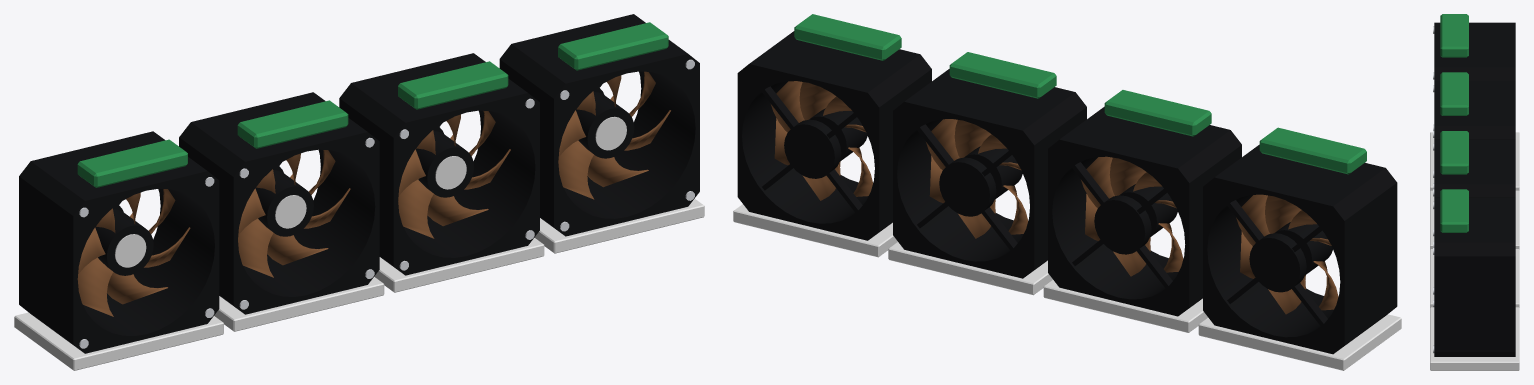
The model's file is hw_cool_hotswap_fans.glb.
The picture shows the model from 3 angles, left to right: view 1: azimuth 30°, elevation 25°; view 2: azimuth 150°, elevation 25°; view 3: azimuth 270°, elevation 25°; orthographic projection. The views are drawn at different scales.
Visible parts, largest first — view 1: Body, Rotor_Z_0, Rotor_Z_1, Rotor_Z_3, Rotor_Z_2; view 2: Body, Rotor_Z_3, Rotor_Z_1, Rotor_Z_2, Rotor_Z_0; view 3: Body.
Part boxes in pixels (bbox=[...]): Body: bbox=[14, 14, 704, 370]; Rotor_Z_0: bbox=[77, 189, 190, 316]; Rotor_Z_1: bbox=[238, 150, 350, 277]; Rotor_Z_3: bbox=[558, 71, 670, 199]; Rotor_Z_2: bbox=[398, 111, 510, 238]; Body: bbox=[733, 14, 1401, 370]; Rotor_Z_3: bbox=[771, 81, 872, 200]; Rotor_Z_1: bbox=[1081, 156, 1183, 276]; Rotor_Z_2: bbox=[926, 119, 1028, 238]; Rotor_Z_0: bbox=[1236, 194, 1338, 314]; Body: bbox=[1430, 14, 1519, 370].
Bounding box in the file's own units: 0.268 × 0.075 × 0.044.
